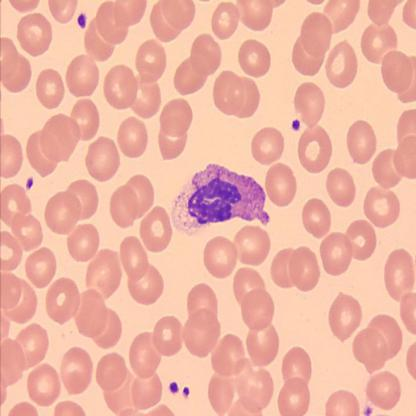Segmented neutrophil: (166, 159, 271, 238)
